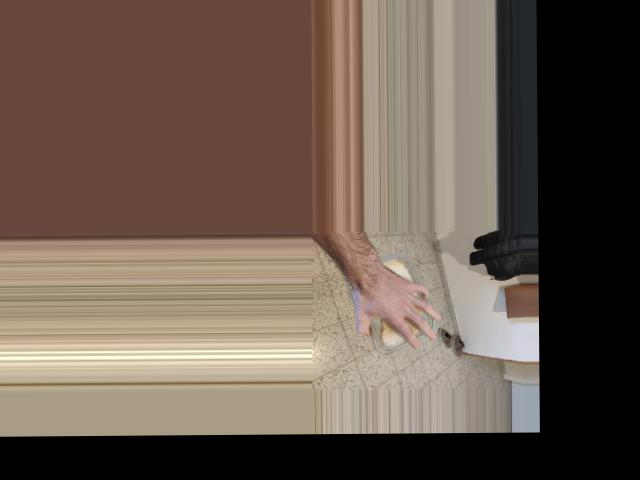cheese: (346, 257, 439, 351)
